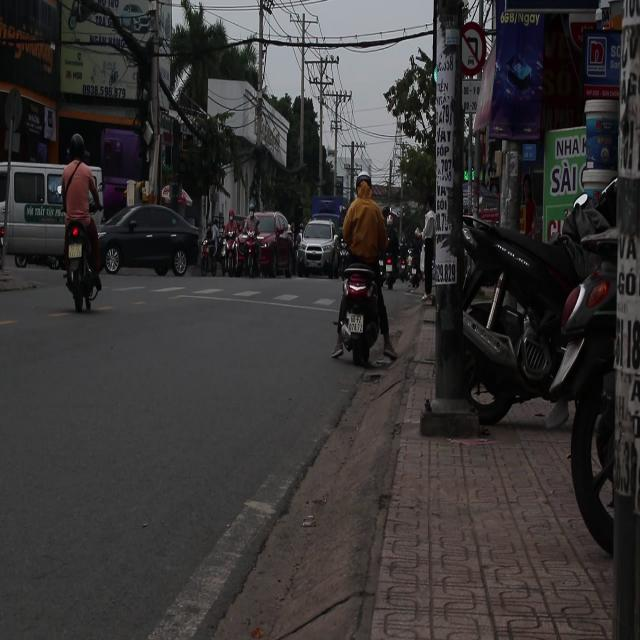car: (1, 161, 80, 270), (99, 205, 200, 278), (248, 212, 297, 278), (296, 220, 341, 278), (308, 198, 344, 234)
motorbike: (453, 210, 615, 429), (335, 270, 391, 368), (60, 220, 101, 314), (222, 225, 239, 284), (245, 224, 261, 277)
